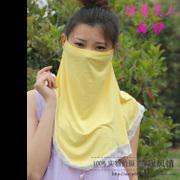OK: (65, 32, 115, 84)
